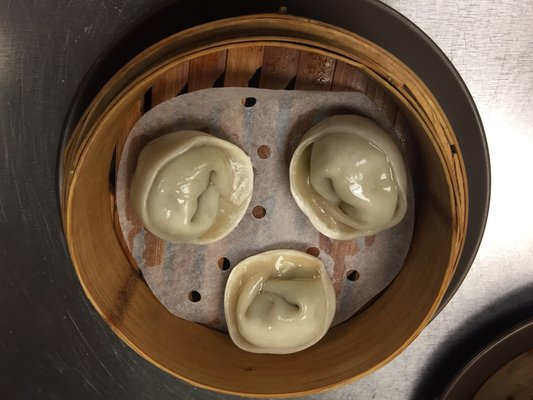curry: (13, 1, 506, 400)
